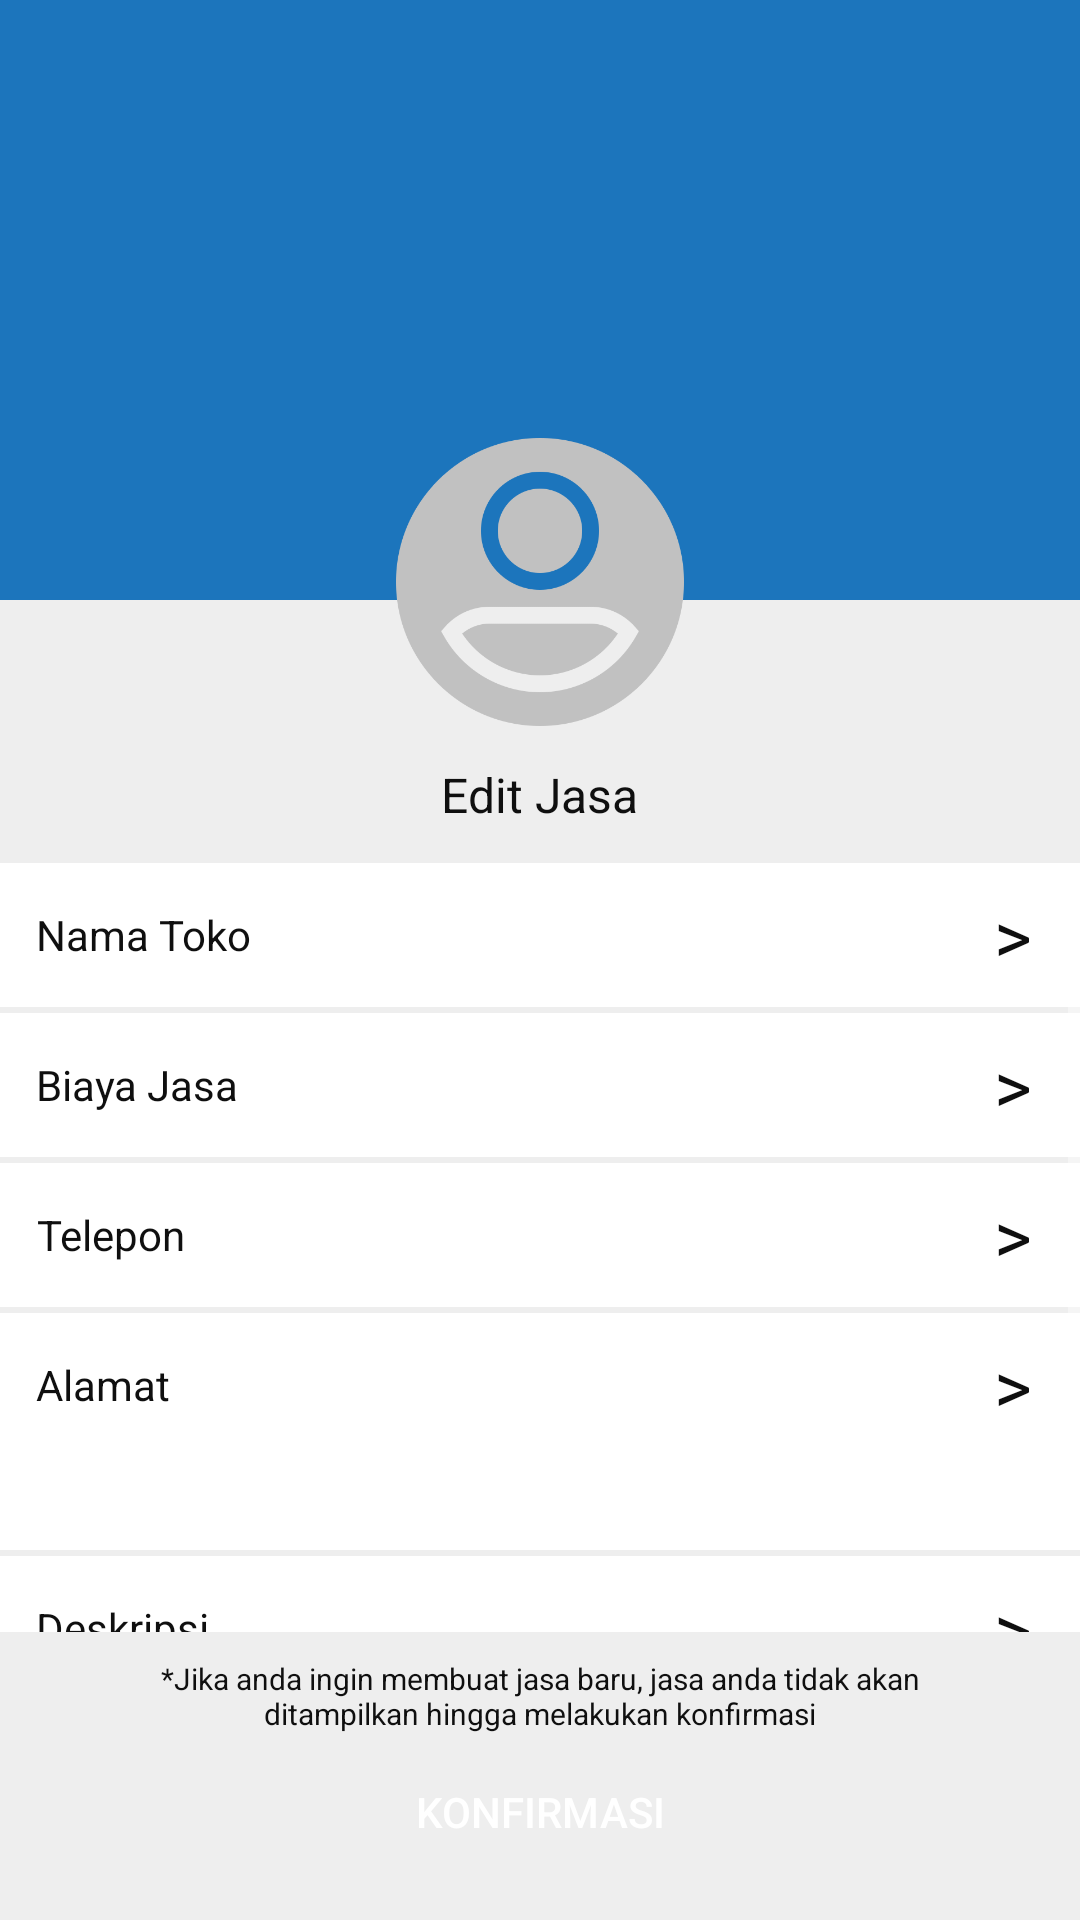

Where to tap for icons on this 1080 x 1920 app screen, as (x,y):
photo: (540,582)
